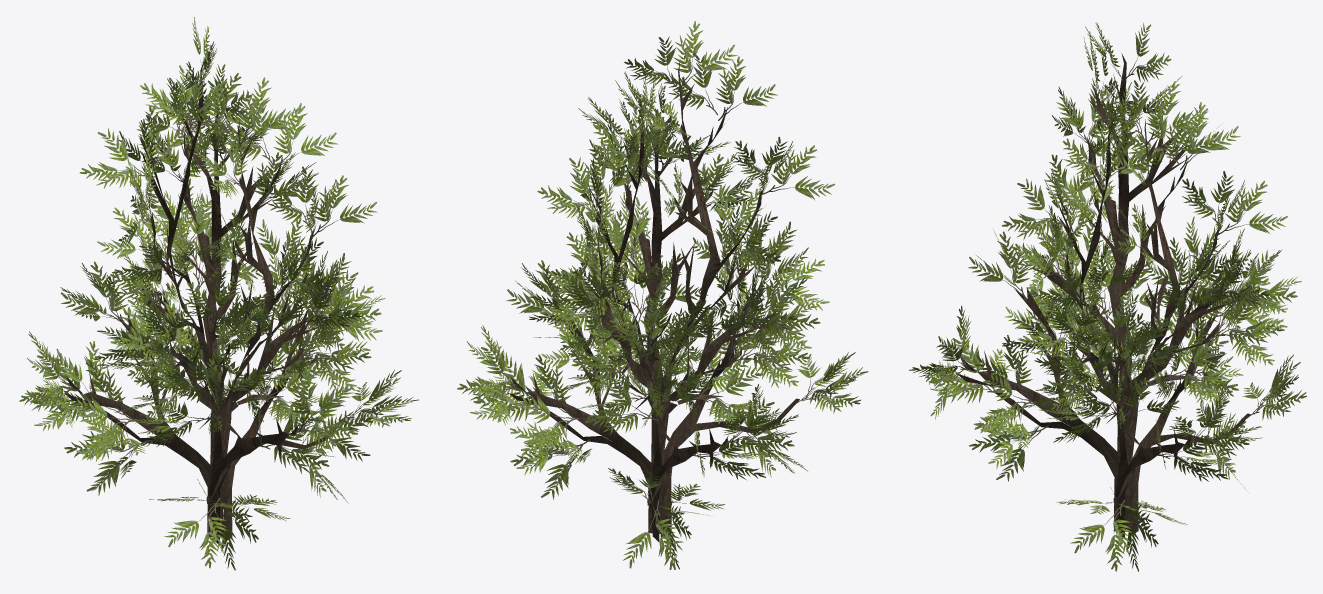
File: tree_lod2.glb
3 renders of one model, left to right at view 1: azimuth 30°, elevation 25°; view 2: azimuth 150°, elevation 25°; view 3: azimuth 270°, elevation 25°, orthographic. The views are drawn at different scales.
Parts seen in each view (by area): view 1: Object_5402.001, Object_5400.001; view 2: Object_5402.001, Object_5400.001; view 3: Object_5402.001, Object_5400.001.
Boxes of the visible parts, x1=… form: Object_5402.001: x1=19, y1=17, x2=418, y2=570; Object_5400.001: x1=64, y1=62, x2=345, y2=545; Object_5402.001: x1=457, y1=21, x2=868, y2=569; Object_5400.001: x1=508, y1=59, x2=799, y2=542; Object_5402.001: x1=909, y1=22, x2=1306, y2=571; Object_5400.001: x1=957, y1=53, x2=1250, y2=536.
Bounding box in the file's own units: 14.79 × 20.37 × 14.81.
Materials: 2 (2 with a texture image).
